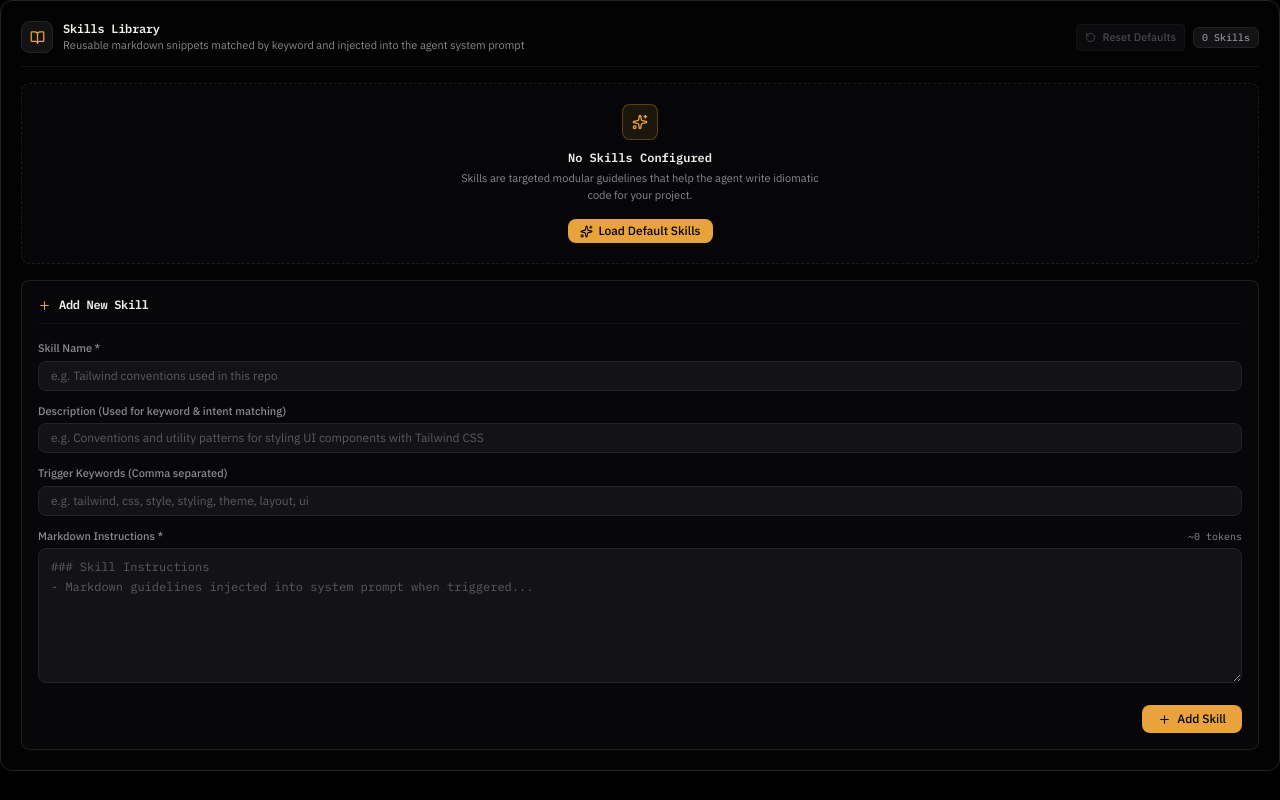
Test: SettingsSkillsSection › allows adding a new skill via the form
This screenshot has width=1280, height=800.
expect the heading "Skills Library" is shown: met, box [63,21,160,36]
In the field labelled "Skill Name *": (640, 376) [38,361,1242,391], type "React Router Conventions"
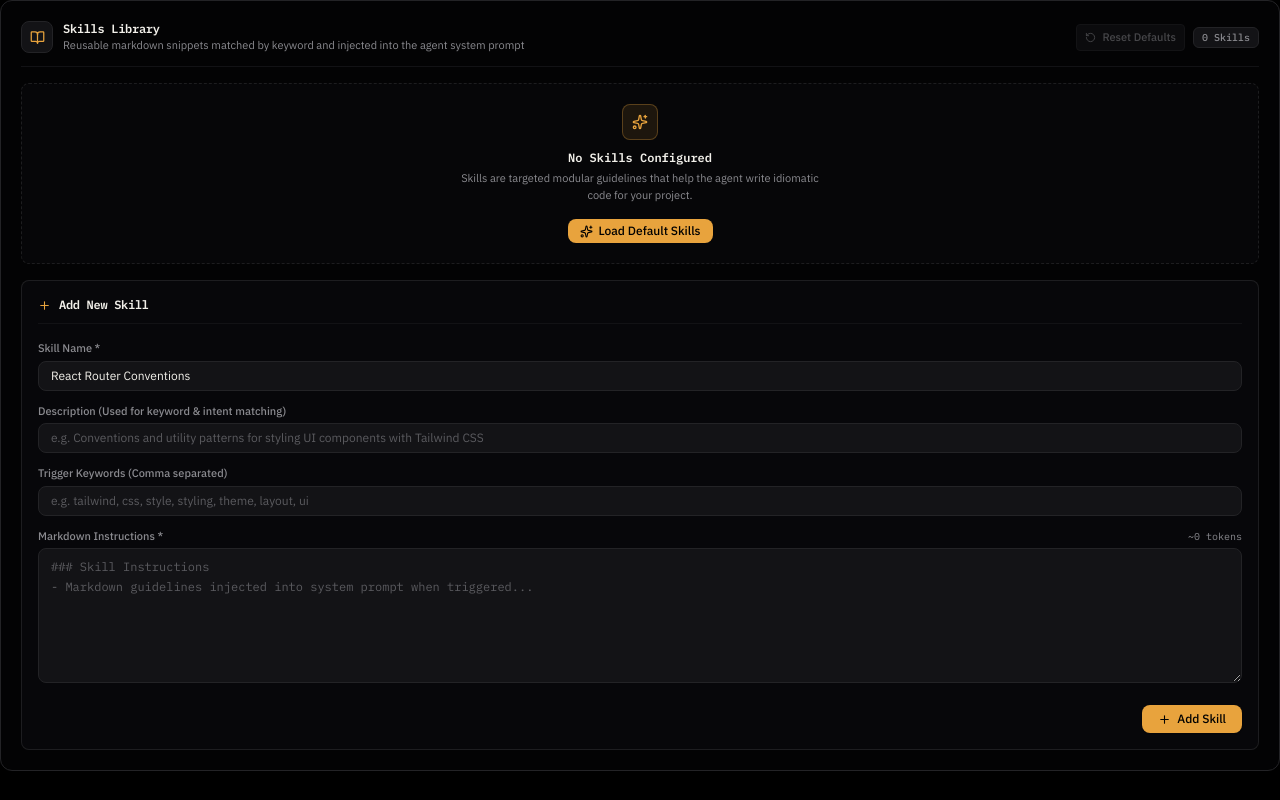
Replace the text in the field labelled "Description (Used for keyword & intent matching)" with "Routing practices": (640, 438) [38,423,1242,453]
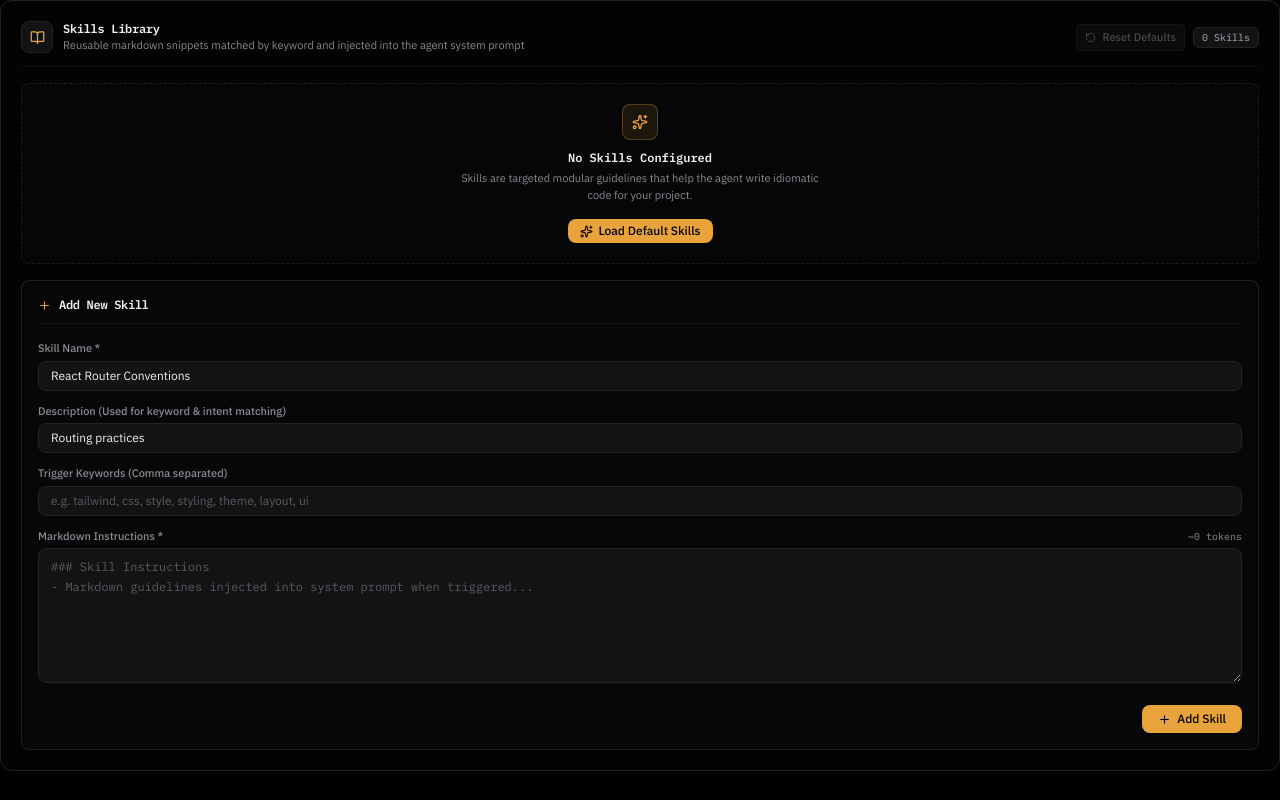
In the field labelled "Trigger Keywords (Comma separated)": (640, 501) [38,486,1242,516], type "router, routing, navigation"
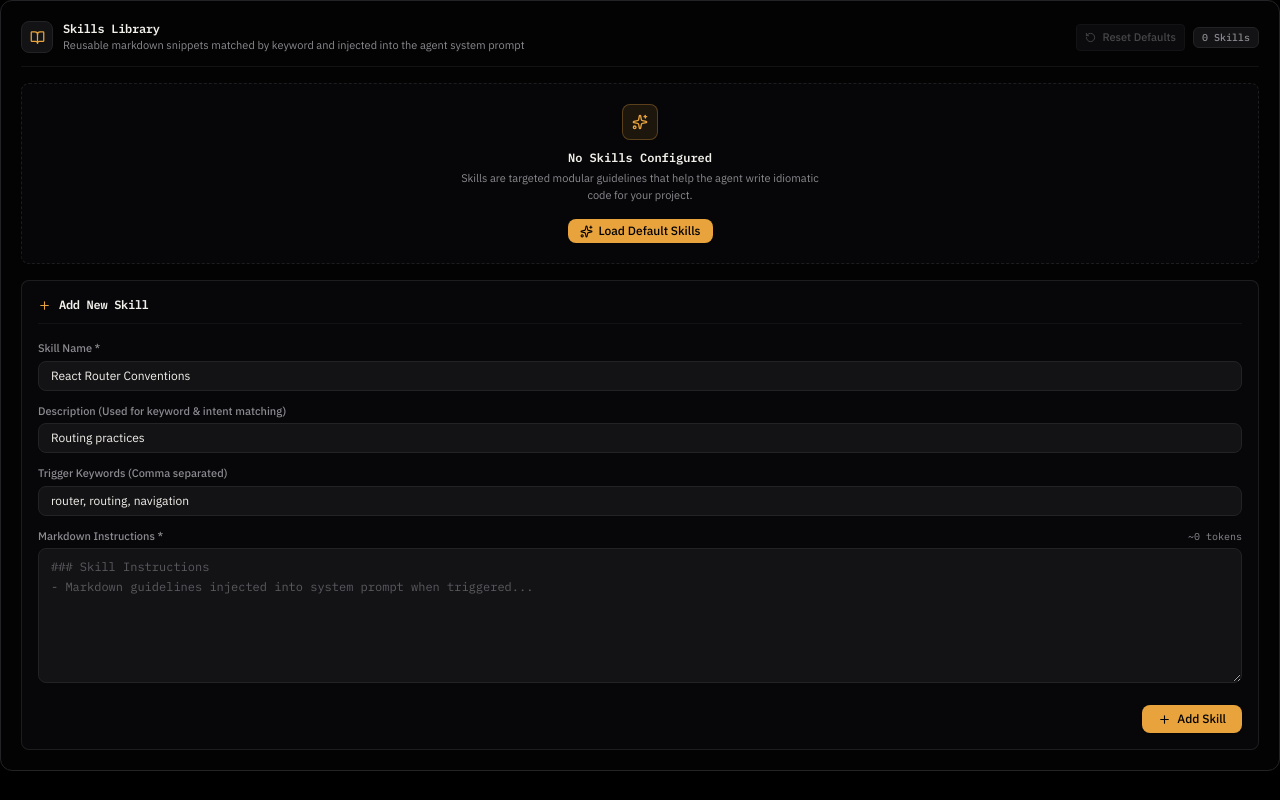
Replace the text in the text box labelled "Markdown Instructions *" with "Use createBrowserRouter and Link.": (640, 616) [38,548,1242,683]
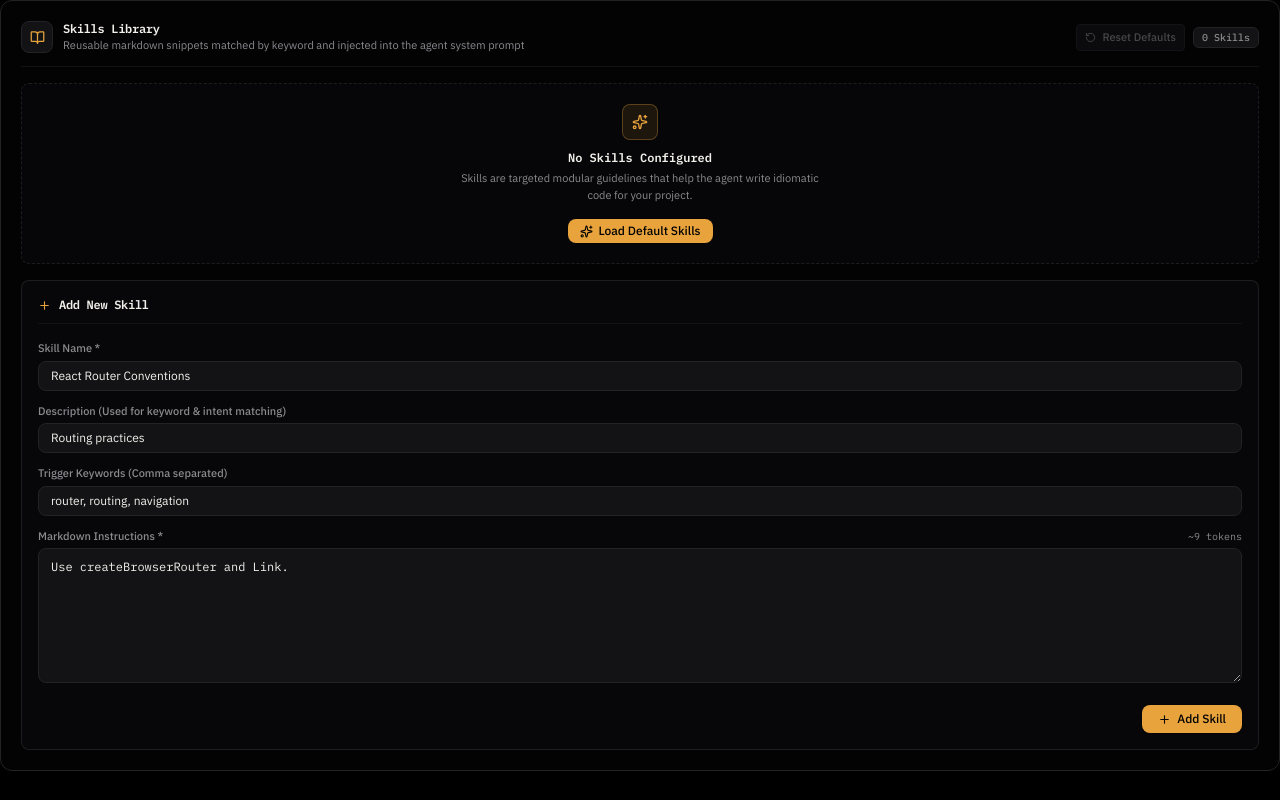
Click the button "Add Skill": (1192, 719) [1142,705,1242,733]
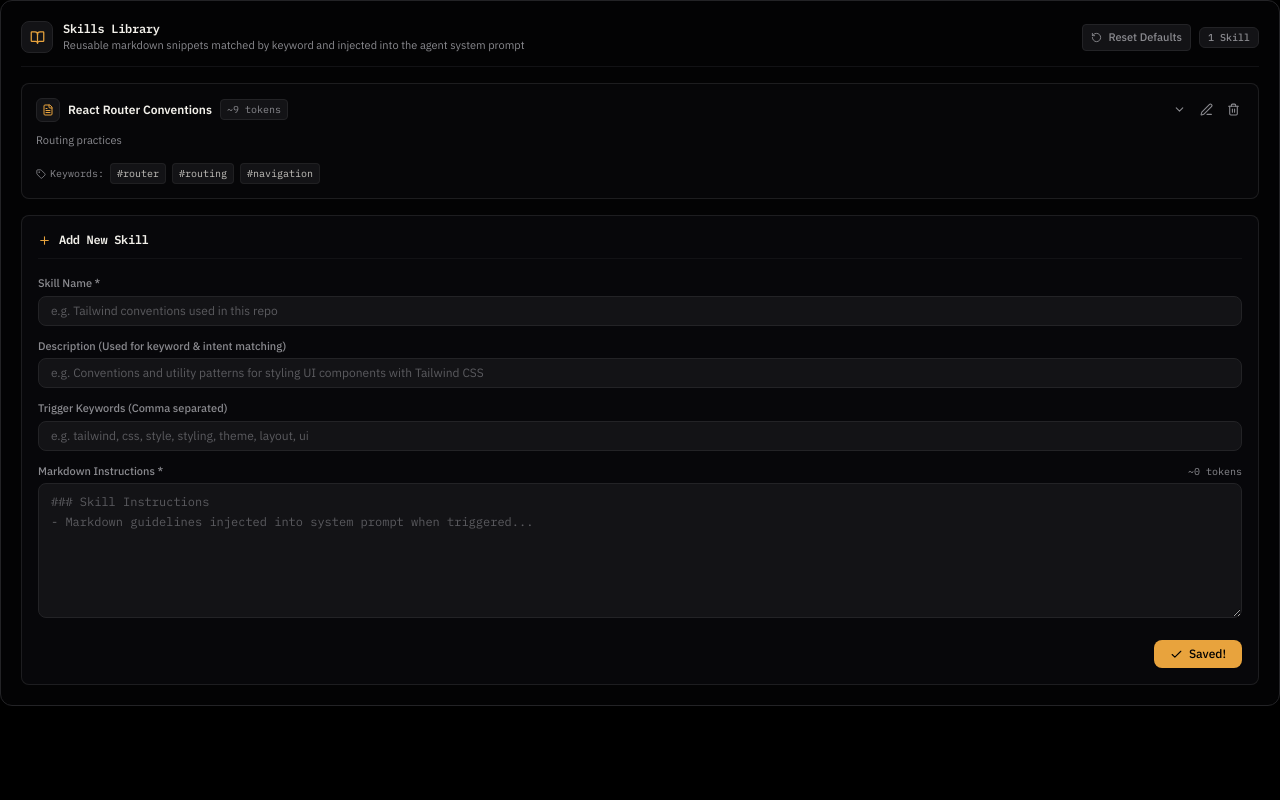
expect the text "React Router Conventions" is shown: met, box [68,102,212,118]
